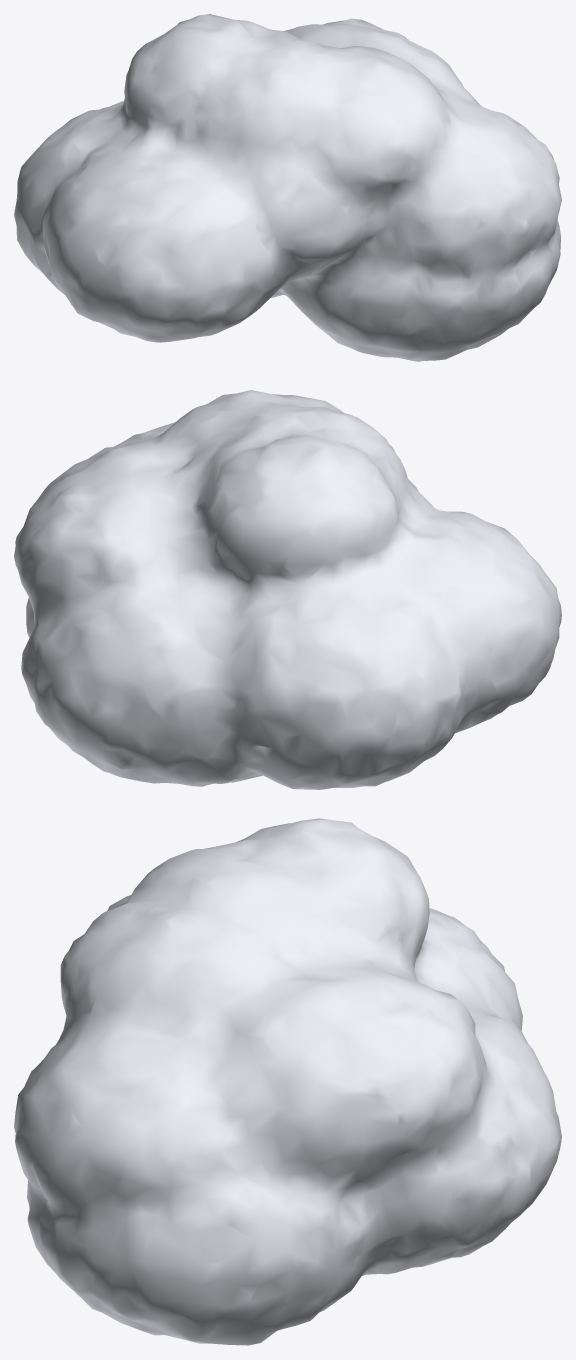
The model's file is cumulus_small.obj.
3 views of the same model, one above another, from view 1: azimuth 30°, elevation 25°; view 2: azimuth 150°, elevation 25°; view 3: azimuth 270°, elevation 25° (orthographic). The views are drawn at different scales.
Visible parts, largest first — view 1: cumulus_small; view 2: cumulus_small; view 3: cumulus_small.
Boxes of the visible parts, x1,y1,x2,y2 form: cumulus_small: [14, 14, 561, 361]; cumulus_small: [14, 390, 561, 789]; cumulus_small: [14, 818, 561, 1345].
Size of the model in its own units: 400 by 262 by 326.
Materials: 1 (1 with a texture image).
